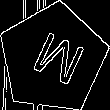M_SW: (22, 26, 84, 91)
